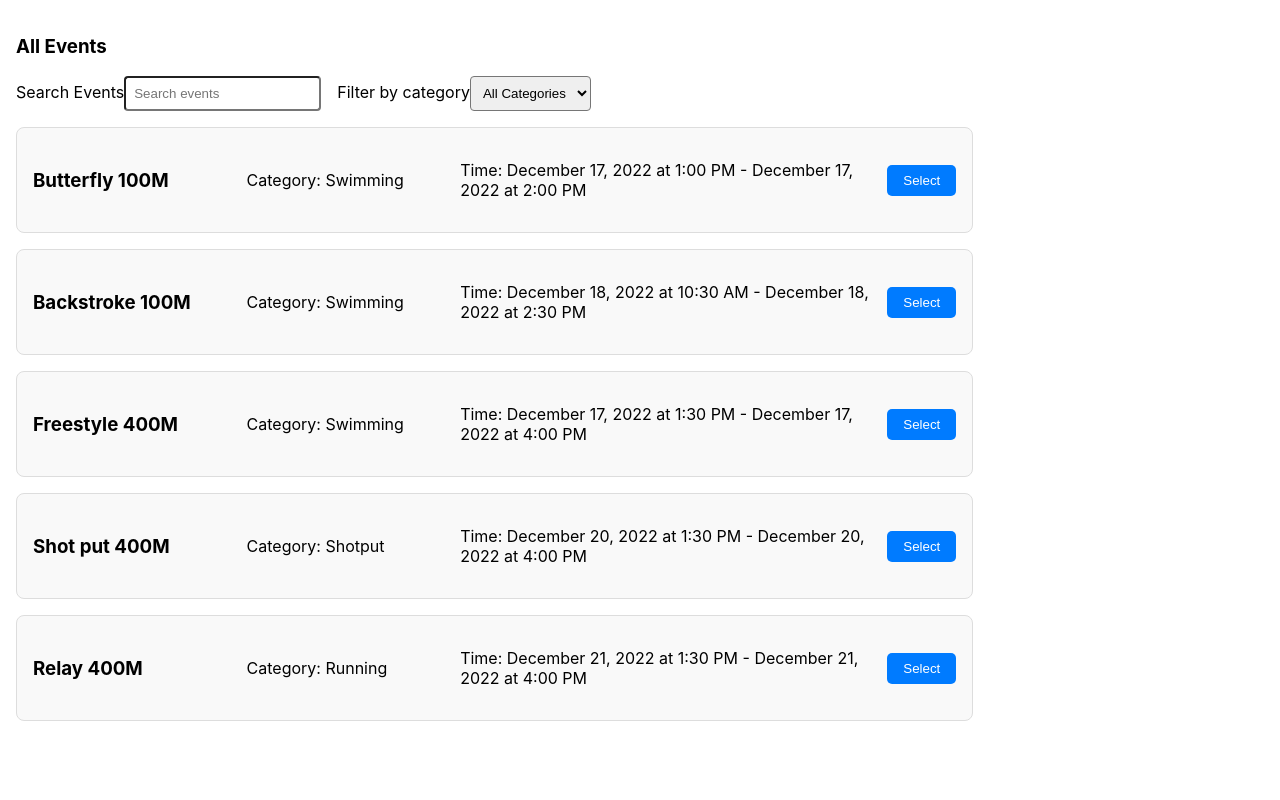
Sports Events Open for Registration › disables select button when there is a time conflict
Click the button "Select" next to "December 17, 2022 at 2:00 PM". click: (922,180)
box: [887, 165, 956, 196]
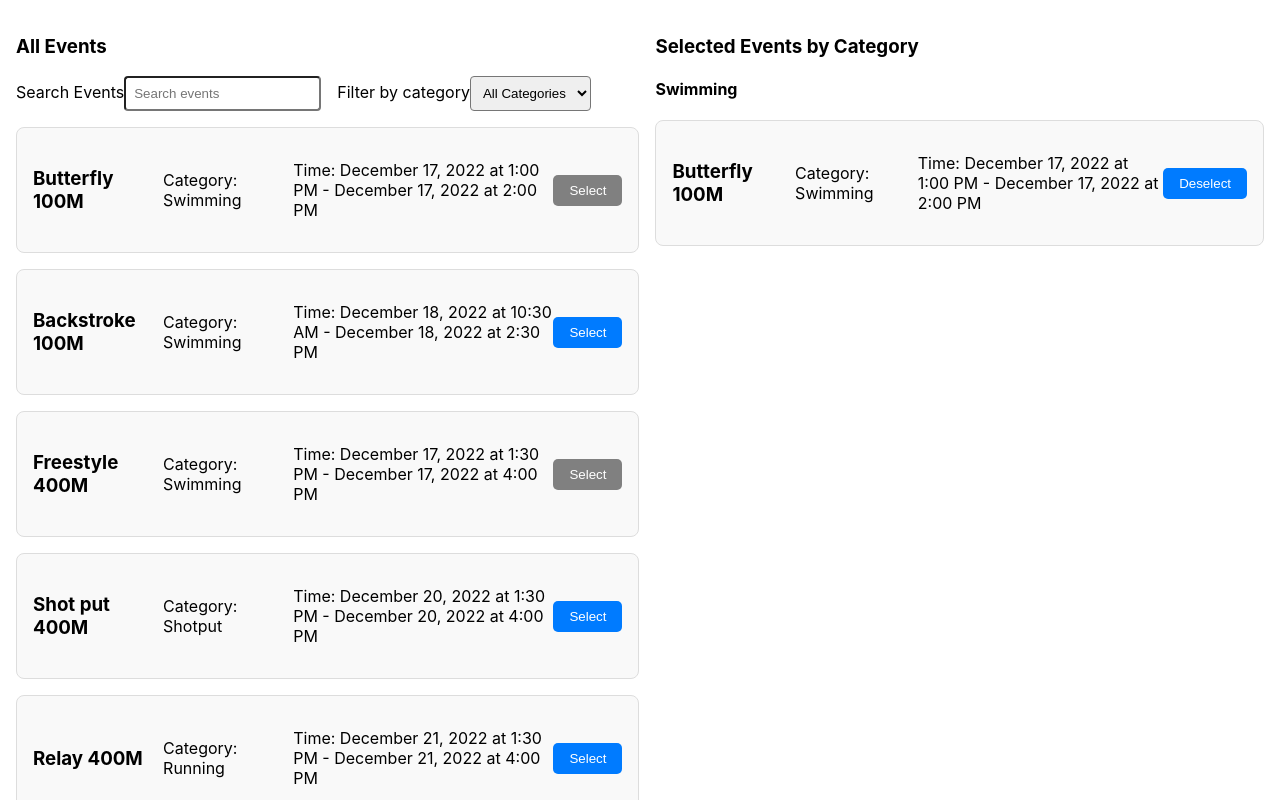
Check: the button "Select" next to "December 17, 2022 at 1:30 PM" is disabled, box [553, 459, 622, 490]
